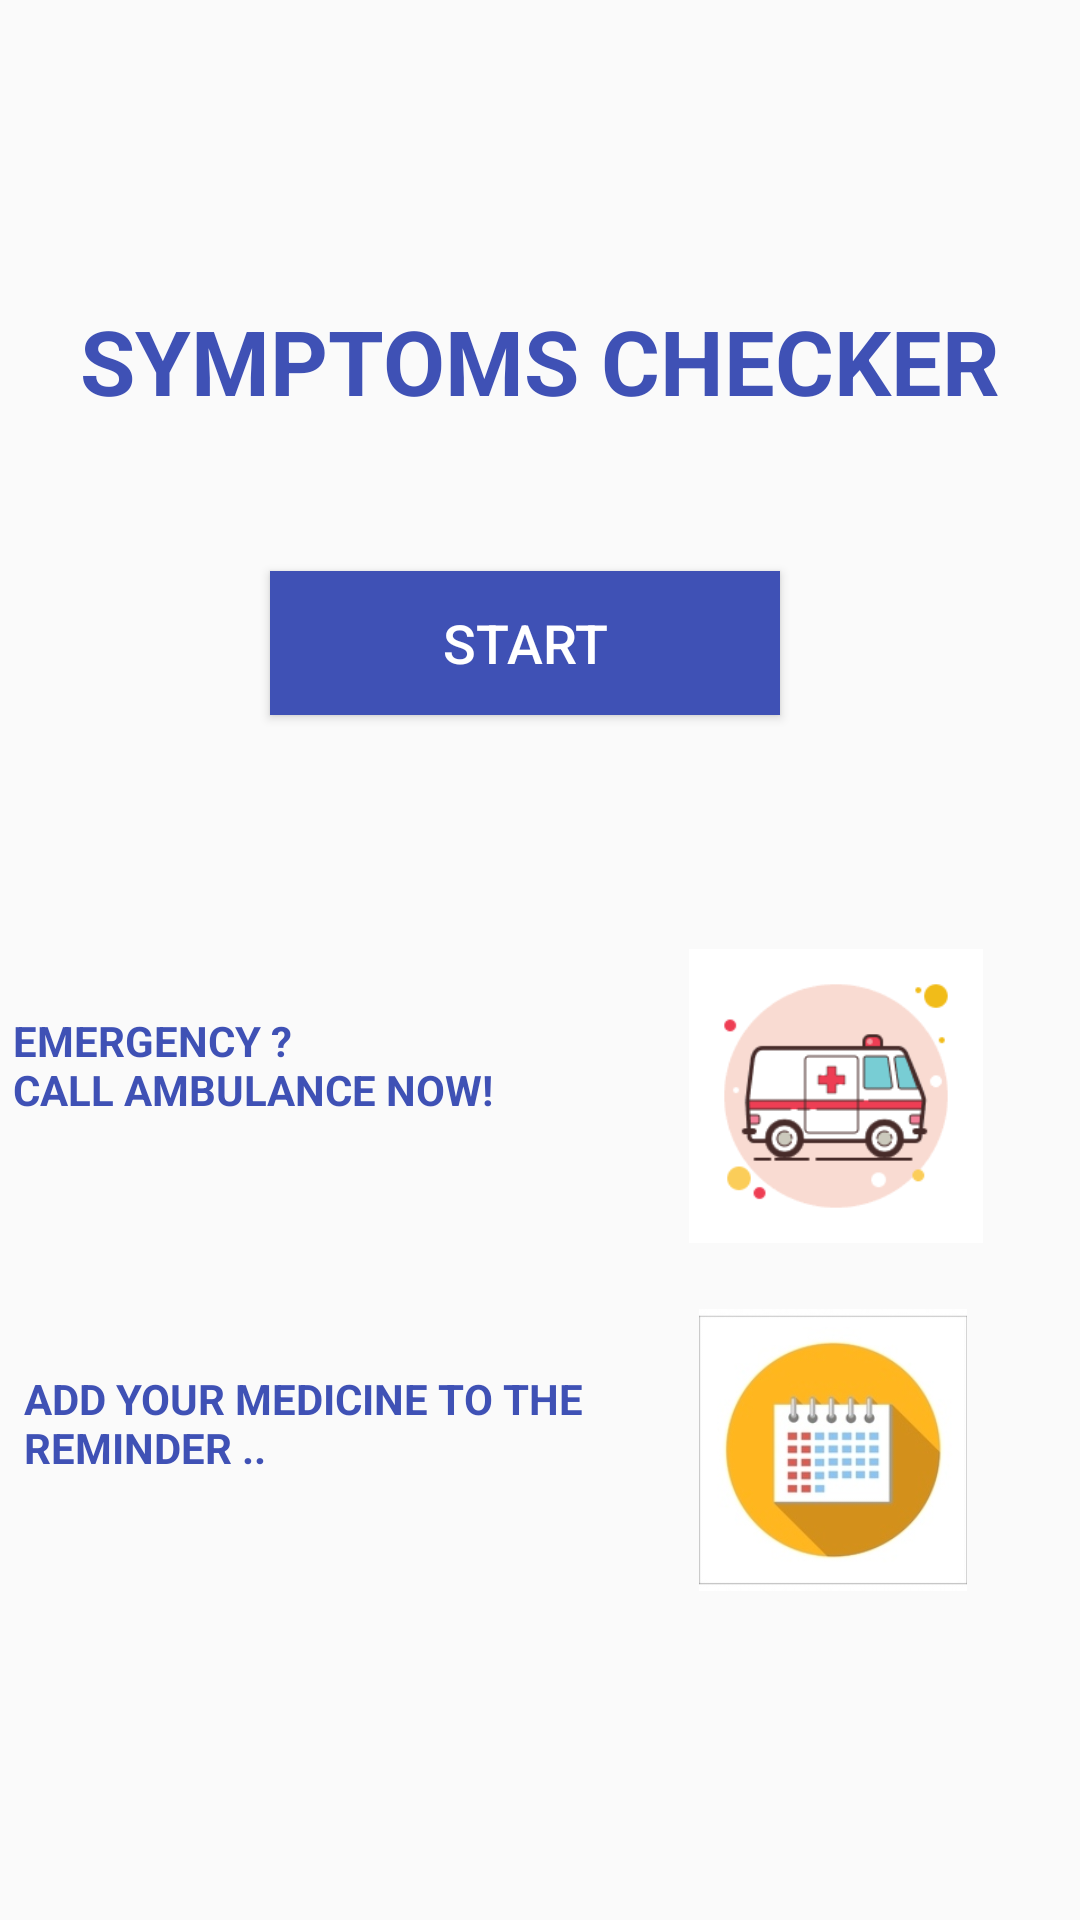

Locate icon controls on the screen. Image size 1080×1920, boxes as (x1, y1, x2, y2).
amb: (724, 984, 948, 1207)
cal: (699, 1316, 967, 1584)
